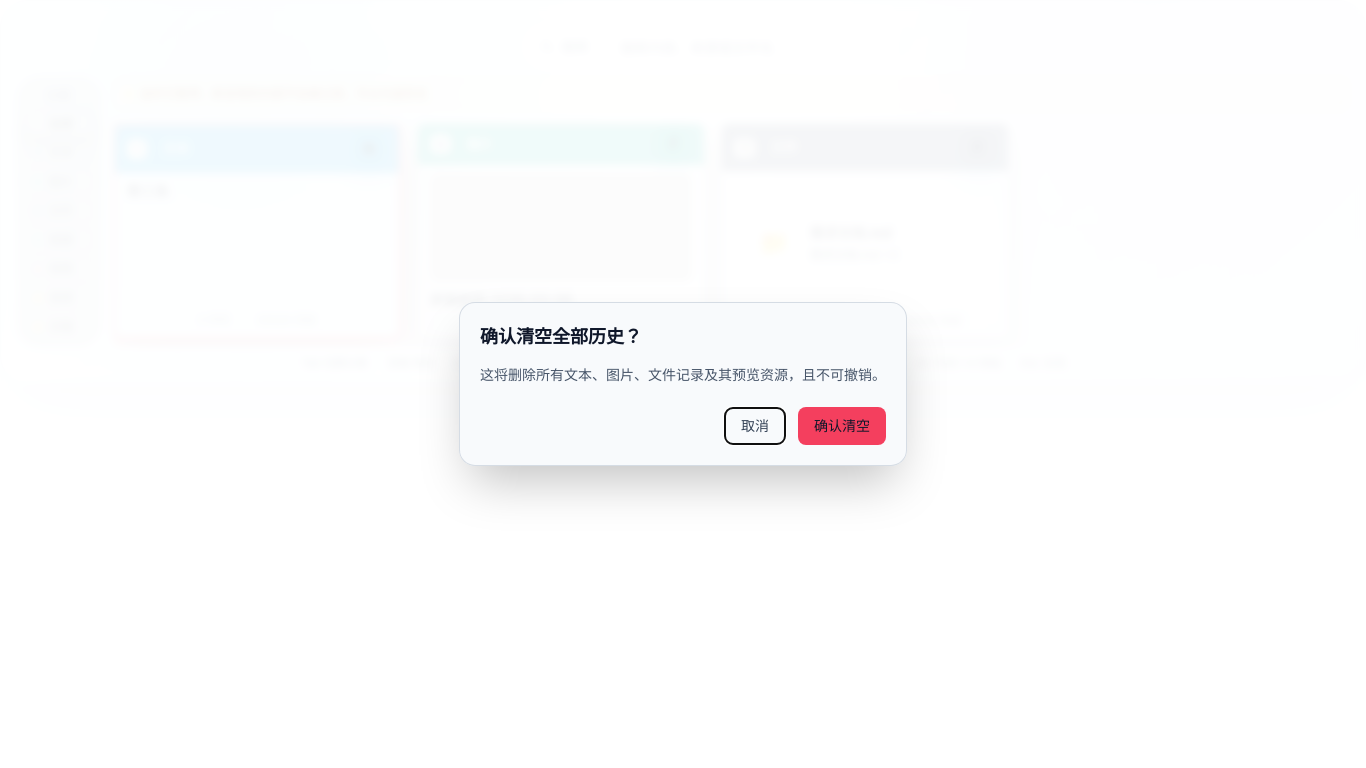
Scenario: App › 收到清空历史请求后可取消且不触发命令
Check: the element with test id "card-list" is shown, box [113, 123, 1009, 338]
Click the button with test id "confirm-dialog-cancel" at (755, 426), box [724, 407, 786, 445]
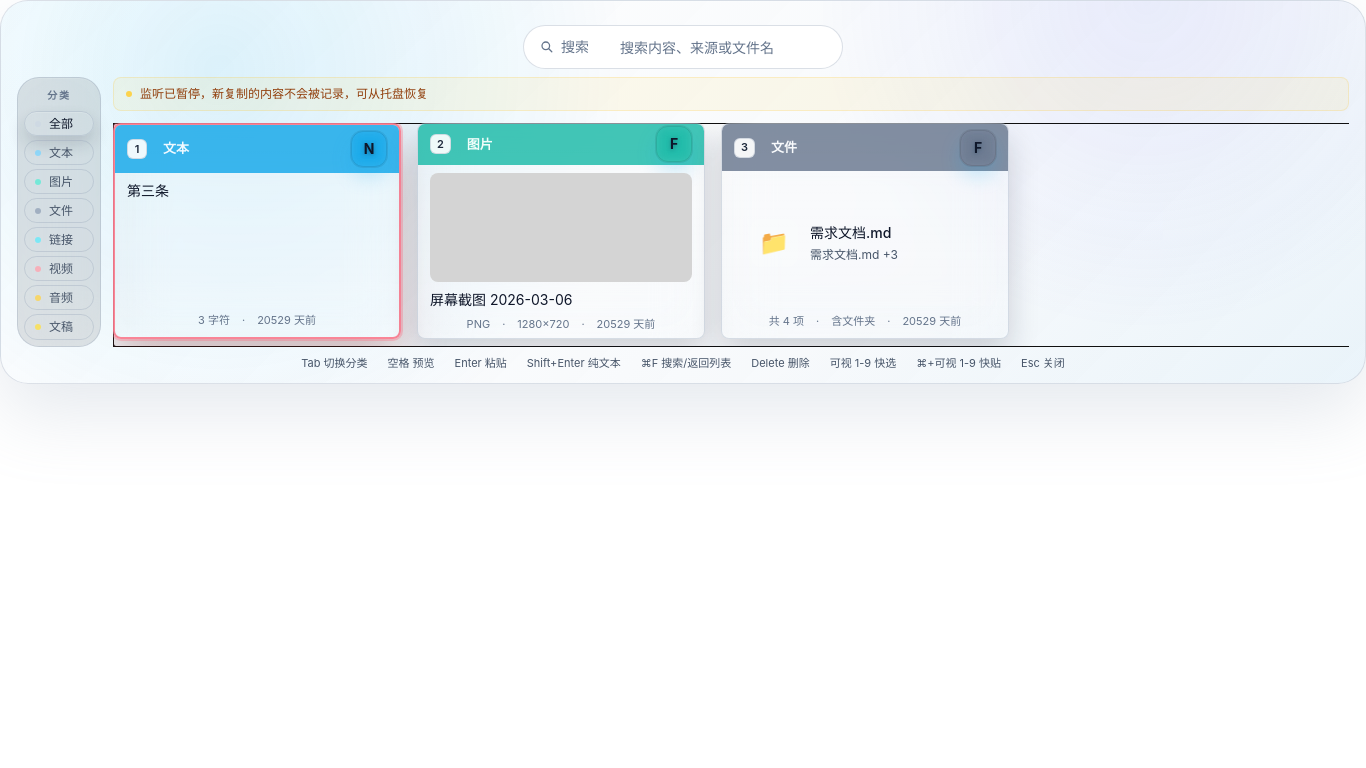
Check: the dialog with test id "confirm-dialog" is gone
